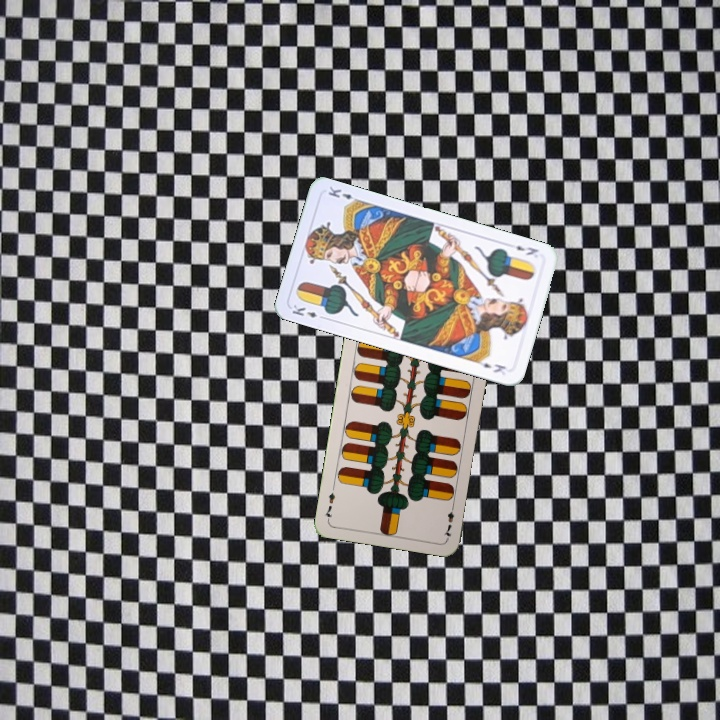E7: (440, 500, 457, 541)
EK: (288, 301, 328, 322), (512, 241, 541, 258)
